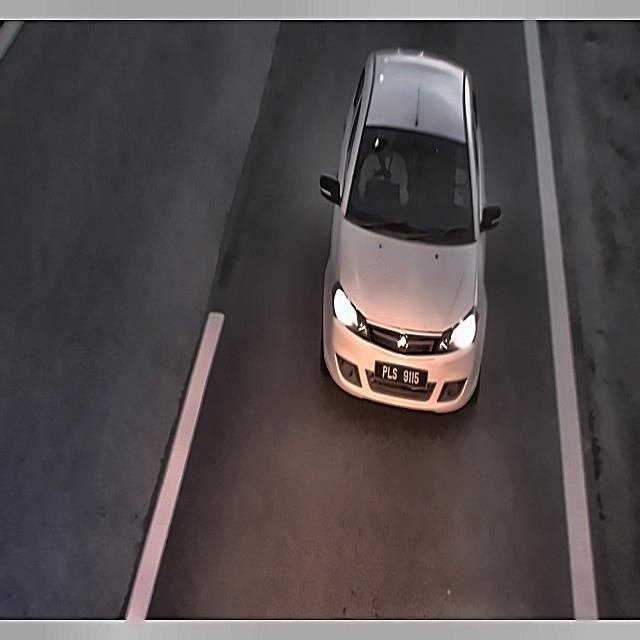car: (366, 353, 432, 392)
